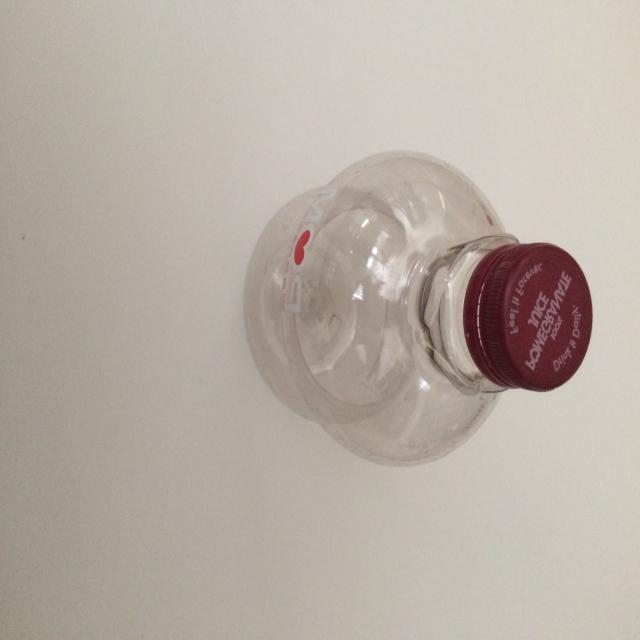plastic: (243, 148, 593, 467)
